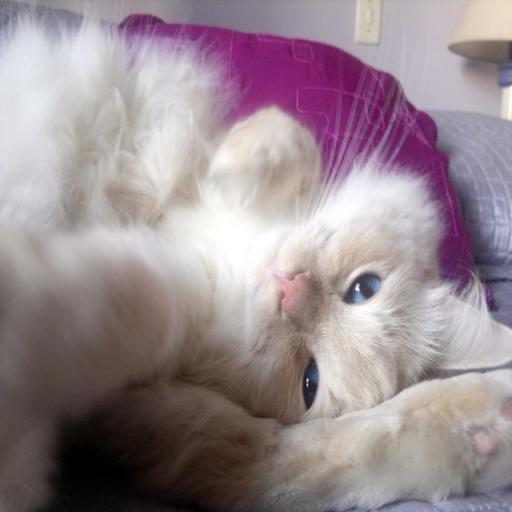cat: (0, 13, 512, 512)
